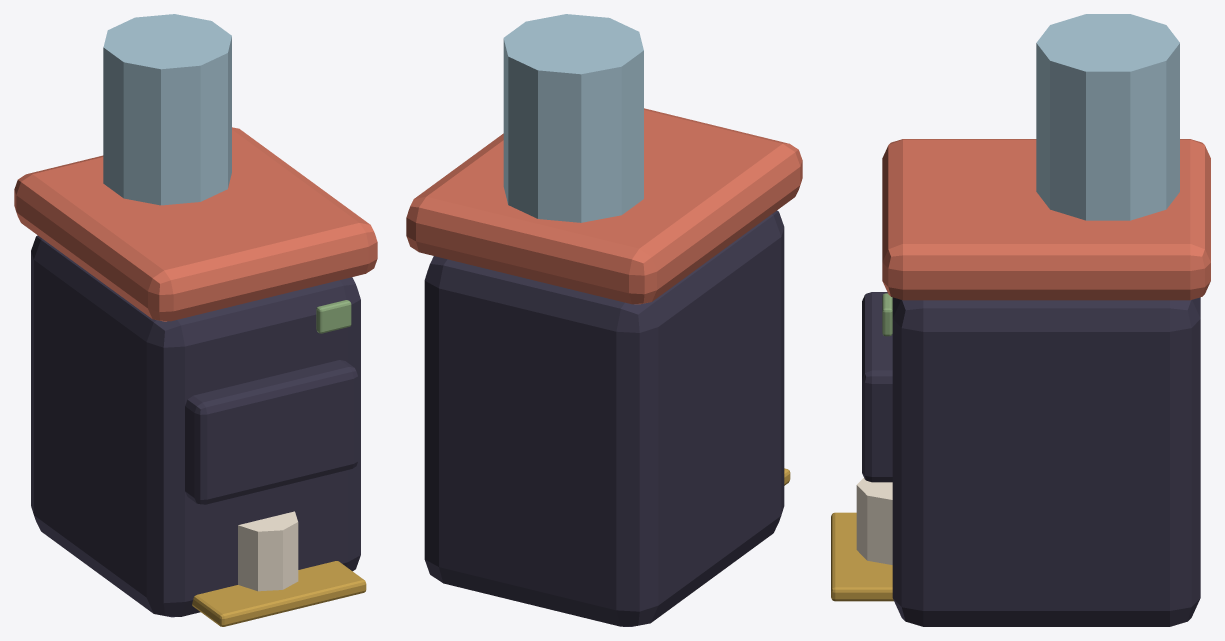
Rendered from coffee_machine.glb.
The picture shows the model from 3 angles, left to right: view 1: azimuth 30°, elevation 25°; view 2: azimuth 150°, elevation 25°; view 3: azimuth 270°, elevation 25°; orthographic projection. The views are drawn at different scales.
Visible parts, largest first — view 1: coffee_machine; view 2: coffee_machine; view 3: coffee_machine.
Boxes of the visible parts, x1,y1,x2,y2 form: coffee_machine: (14, 14, 377, 626); coffee_machine: (406, 14, 802, 626); coffee_machine: (831, 14, 1210, 626).
Bounding box in the file's own units: 0.28 × 0.58 × 0.37.
